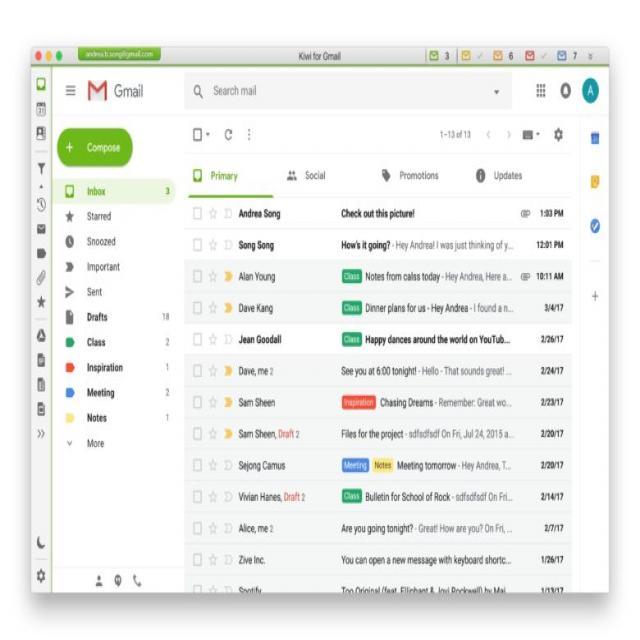button: (185, 544, 572, 576), (184, 511, 570, 543), (185, 198, 570, 230), (185, 420, 571, 451), (185, 293, 572, 323), (185, 324, 571, 354), (185, 356, 570, 386), (186, 262, 570, 292), (185, 389, 571, 418), (185, 229, 570, 258), (185, 452, 570, 481), (185, 482, 570, 511), (185, 577, 571, 592), (369, 154, 461, 197), (187, 153, 273, 195), (466, 154, 552, 196), (276, 155, 362, 196), (53, 204, 177, 230), (53, 407, 176, 433), (52, 305, 177, 330), (53, 255, 177, 280), (52, 330, 176, 355), (53, 356, 176, 381), (57, 128, 133, 168), (52, 280, 177, 304), (53, 230, 177, 254), (53, 382, 177, 406), (53, 433, 176, 457), (54, 180, 176, 203), (82, 72, 150, 110), (77, 47, 162, 60), (583, 120, 608, 155), (584, 210, 609, 244), (584, 166, 608, 200), (579, 75, 602, 107), (548, 119, 570, 151), (584, 282, 606, 312), (554, 76, 576, 106), (530, 76, 551, 107), (518, 123, 544, 145), (342, 394, 376, 410), (426, 46, 456, 64), (488, 47, 519, 64), (32, 561, 50, 590), (457, 47, 487, 64), (32, 529, 50, 556), (552, 47, 582, 63), (519, 48, 551, 63), (61, 78, 79, 104), (32, 122, 51, 146), (33, 191, 50, 217), (32, 348, 50, 372), (32, 398, 50, 422), (32, 290, 49, 315), (32, 322, 49, 347), (33, 72, 51, 95), (33, 263, 49, 288), (33, 98, 51, 120), (342, 458, 370, 472), (33, 373, 50, 395), (34, 154, 49, 178), (32, 423, 50, 443), (32, 241, 49, 262), (33, 220, 50, 240), (191, 82, 207, 103), (110, 571, 127, 590), (342, 268, 362, 284), (342, 300, 362, 316), (342, 488, 362, 504), (91, 571, 107, 590), (129, 571, 145, 590), (342, 332, 362, 347), (483, 123, 496, 146), (373, 459, 394, 473), (503, 122, 515, 146), (221, 127, 237, 144), (243, 126, 257, 145), (490, 82, 504, 100), (222, 488, 235, 506), (222, 205, 235, 222), (583, 48, 598, 62), (519, 268, 532, 284), (222, 300, 235, 316), (222, 426, 235, 442), (520, 205, 532, 222), (207, 299, 219, 316), (222, 457, 234, 474), (207, 488, 219, 505), (223, 267, 234, 285), (222, 362, 234, 378), (207, 426, 219, 442), (222, 520, 234, 536), (222, 551, 234, 567), (222, 395, 234, 410), (223, 236, 234, 252), (208, 269, 219, 285), (223, 331, 234, 347), (207, 551, 218, 567), (208, 205, 218, 222), (208, 393, 218, 410), (208, 237, 219, 252), (208, 458, 218, 474), (203, 128, 214, 142), (208, 521, 219, 535), (208, 364, 218, 379), (208, 333, 218, 346), (44, 49, 53, 62), (222, 584, 236, 592), (54, 50, 64, 61), (207, 583, 219, 592), (34, 50, 43, 61)
field: (184, 72, 512, 108), (193, 521, 202, 535), (193, 552, 202, 566), (193, 128, 202, 141), (193, 208, 202, 219), (194, 364, 201, 378), (194, 334, 202, 346), (194, 459, 202, 471), (194, 491, 202, 503), (194, 395, 201, 408), (194, 428, 201, 441), (194, 239, 201, 251), (194, 302, 201, 314), (193, 585, 202, 593), (194, 272, 201, 282)
